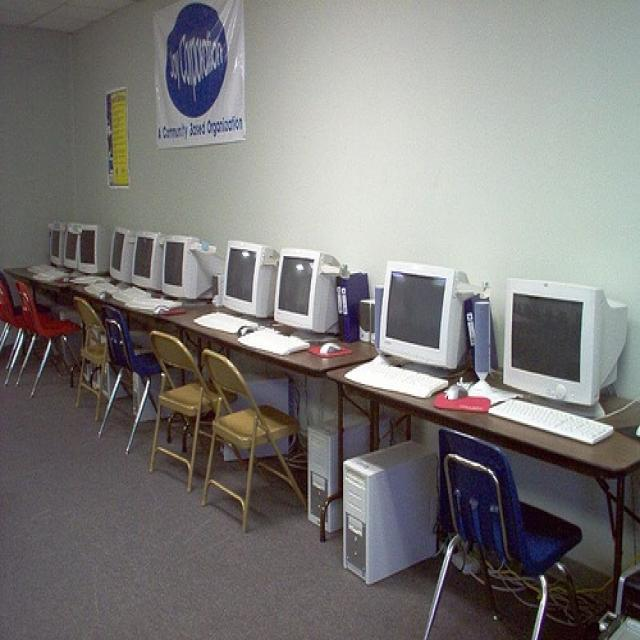chair: (425, 422, 585, 638), (200, 346, 306, 536), (150, 331, 240, 493), (100, 307, 175, 456), (14, 283, 87, 396), (72, 297, 137, 416), (0, 276, 47, 375)
tvmonitor: (500, 276, 630, 416), (379, 261, 471, 379), (274, 249, 348, 338), (221, 238, 278, 318), (158, 234, 214, 304), (127, 229, 164, 292), (77, 225, 110, 275), (108, 227, 136, 283), (60, 224, 77, 273), (46, 222, 63, 266)
